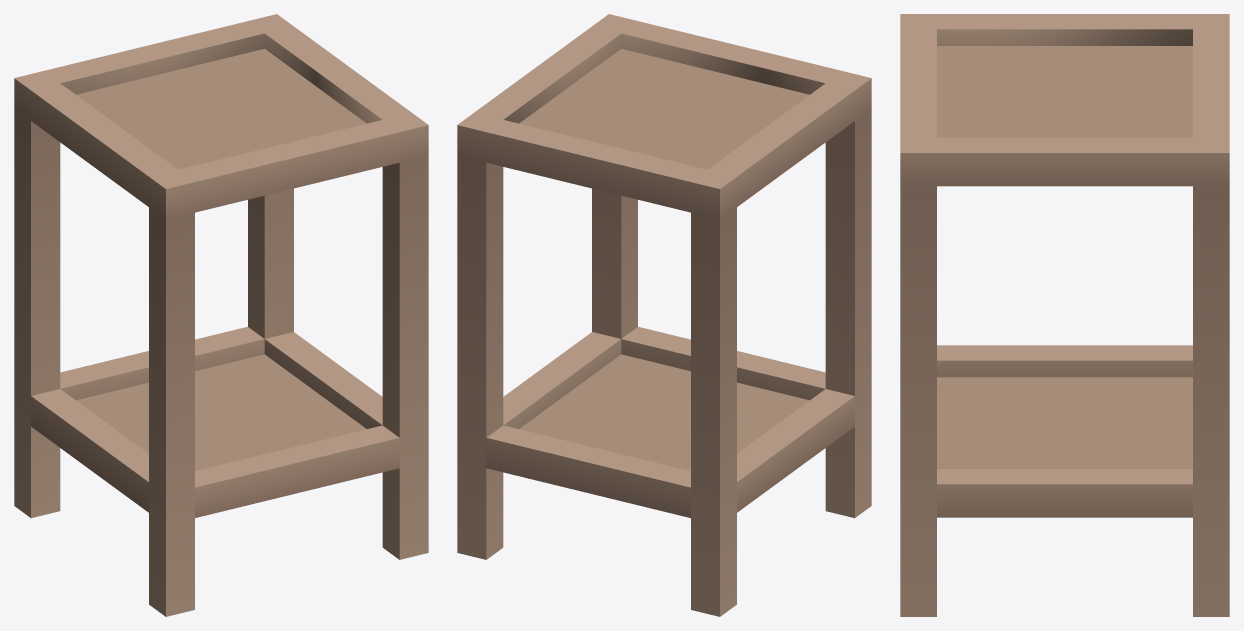
File: cabinet-small.glb
3 views of the same model, side by side, from view 1: azimuth 30°, elevation 25°; view 2: azimuth 150°, elevation 25°; view 3: azimuth 270°, elevation 25° (orthographic). The views are drawn at different scales.
Visible parts, largest first — view 1: cabinet-small; view 2: cabinet-small; view 3: cabinet-small.
Boxes of the visible parts, bbox=[...] form: cabinet-small: bbox=[14, 14, 428, 616]; cabinet-small: bbox=[457, 14, 871, 616]; cabinet-small: bbox=[900, 14, 1229, 616].
Bounding box in the file's own units: 0.45 × 0.7 × 0.45.
